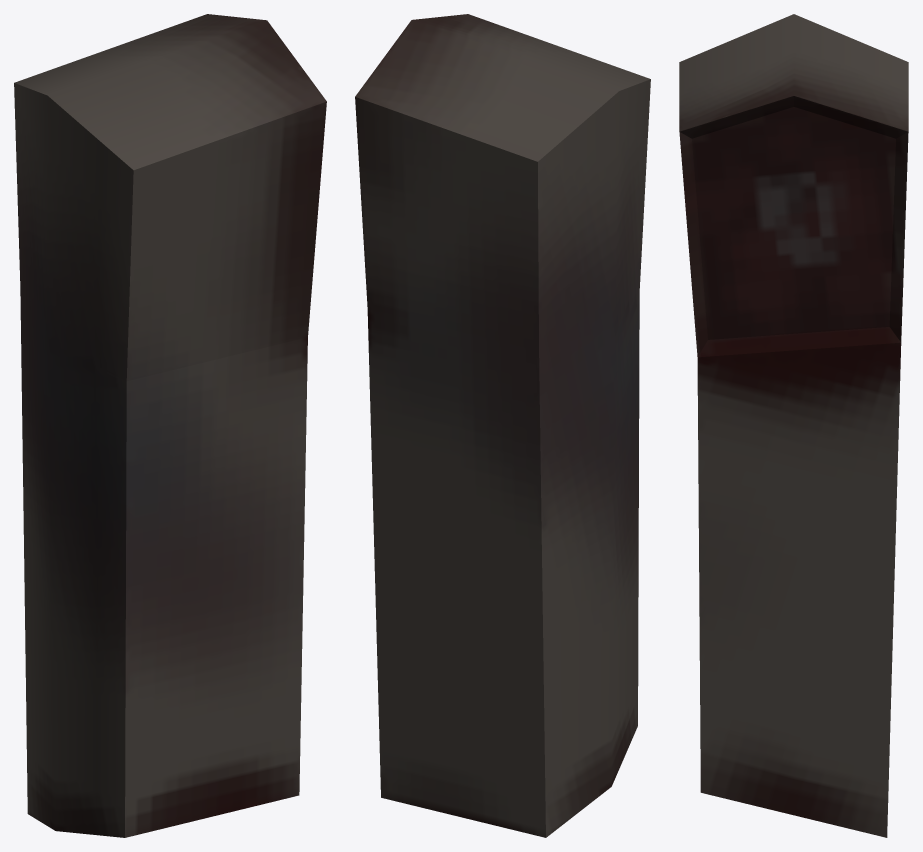
File: rshoulder.fbx
3 views of the same model, side by side, from view 1: azimuth 30°, elevation 25°; view 2: azimuth 150°, elevation 25°; view 3: azimuth 270°, elevation 25° (orthographic). The views are drawn at different scales.
Parts seen in each view (by area): view 1: rshoulder; view 2: rshoulder; view 3: rshoulder.
Boxes of the visible parts, x1=… form: rshoulder: x1=14, y1=14, x2=326, y2=837; rshoulder: x1=355, y1=14, x2=650, y2=837; rshoulder: x1=679, y1=14, x2=908, y2=837.
Size of the model in its own units: 0.124 by 0.4225 by 0.117.
